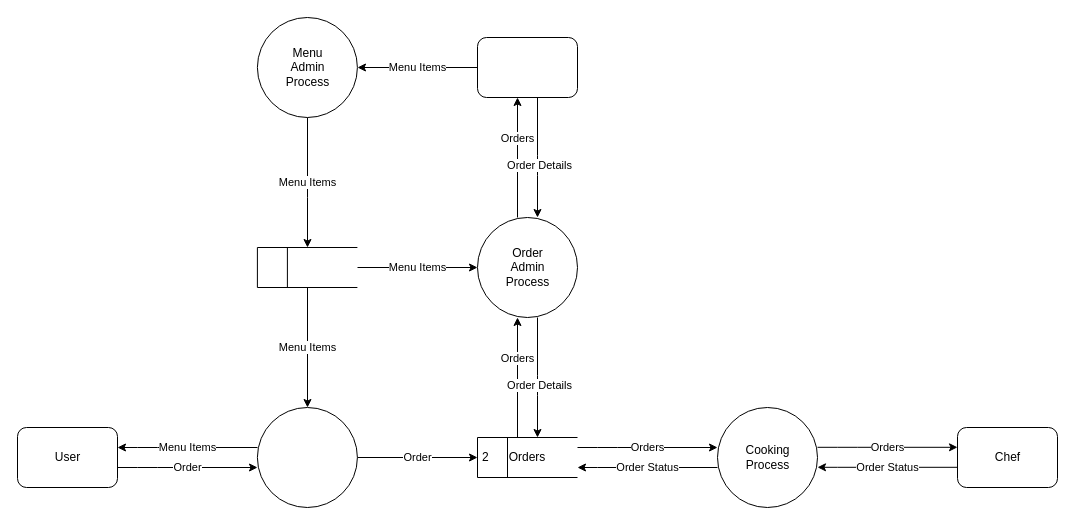
This 1075x525 diagram has some shape labels left out. Here are the shapes that lost their labels. From the top down, the box of each, then its label:
(476, 36, 578, 98): Manager
(256, 246, 357, 288): 1 Menu
(256, 406, 357, 508): Ordering Process
